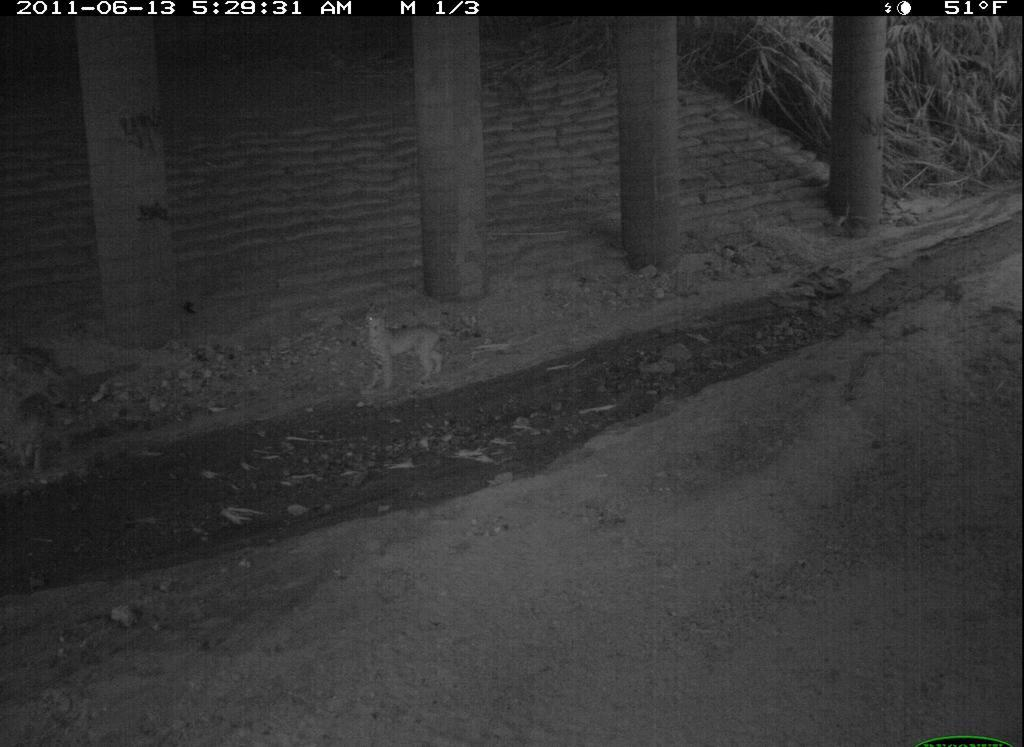bobcat: (721, 594, 896, 747)
